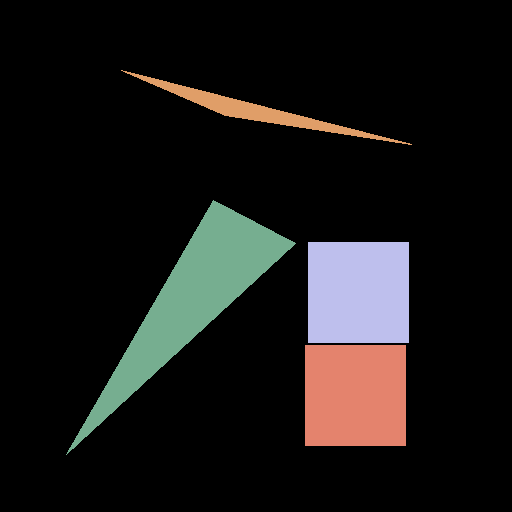square: (305, 345, 405, 445), (308, 242, 408, 342)
triangle: (66, 200, 295, 454), (121, 70, 411, 144)
